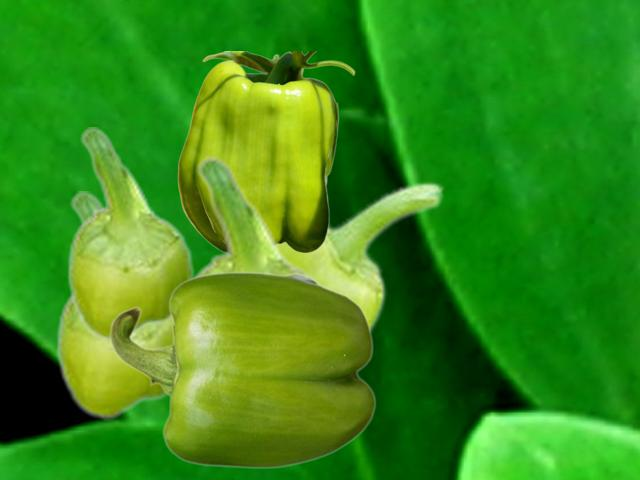bell_pepper: (109, 271, 375, 468), (177, 51, 354, 254), (66, 127, 194, 341), (55, 191, 171, 419), (279, 180, 444, 335), (186, 156, 325, 285)
